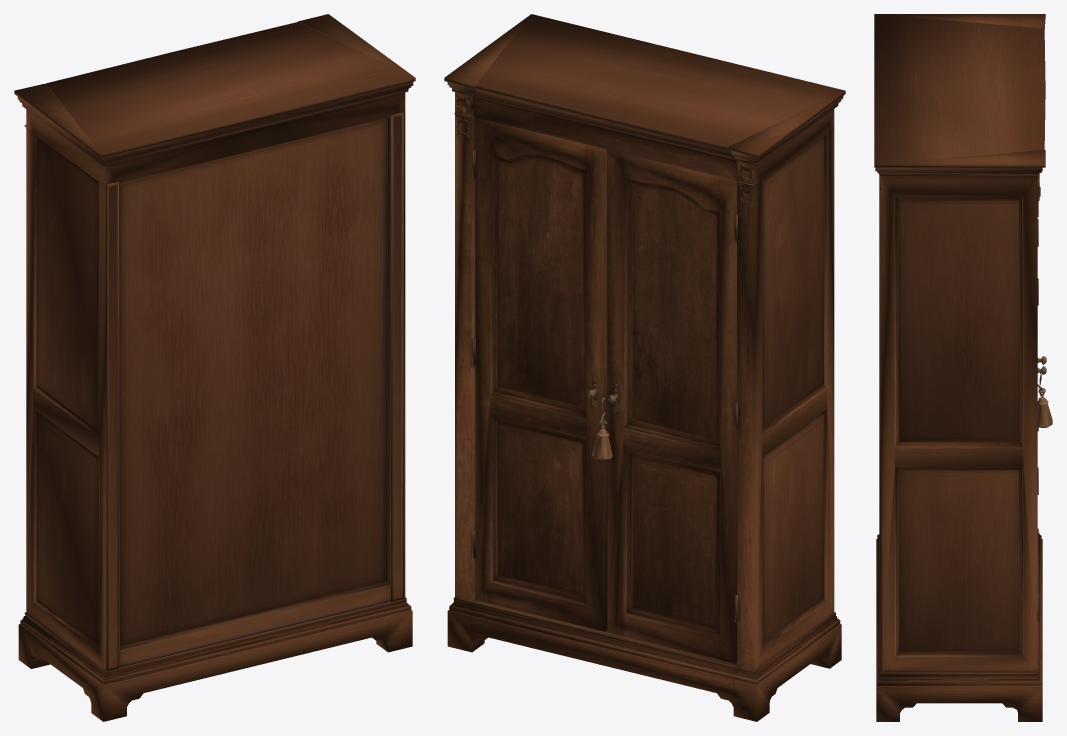
File: furniture-wardrobe.glb
The picture shows the model from 3 angles, left to right: view 1: azimuth 30°, elevation 25°; view 2: azimuth 150°, elevation 25°; view 3: azimuth 270°, elevation 25°; orthographic projection.
Parts seen in each view (by area): view 1: tripo_node_eed055c0-b67a-4037-92e0-e533d21e3b75; view 2: tripo_node_eed055c0-b67a-4037-92e0-e533d21e3b75; view 3: tripo_node_eed055c0-b67a-4037-92e0-e533d21e3b75.
Part boxes in pixels (x1,y1,x2,y2): tripo_node_eed055c0-b67a-4037-92e0-e533d21e3b75: (14,14,415,721); tripo_node_eed055c0-b67a-4037-92e0-e533d21e3b75: (444,14,845,721); tripo_node_eed055c0-b67a-4037-92e0-e533d21e3b75: (874,14,1052,721).
Size of the model in its own units: 1.3 by 2.25 by 0.65.
Materials: 1 (1 with a texture image).
